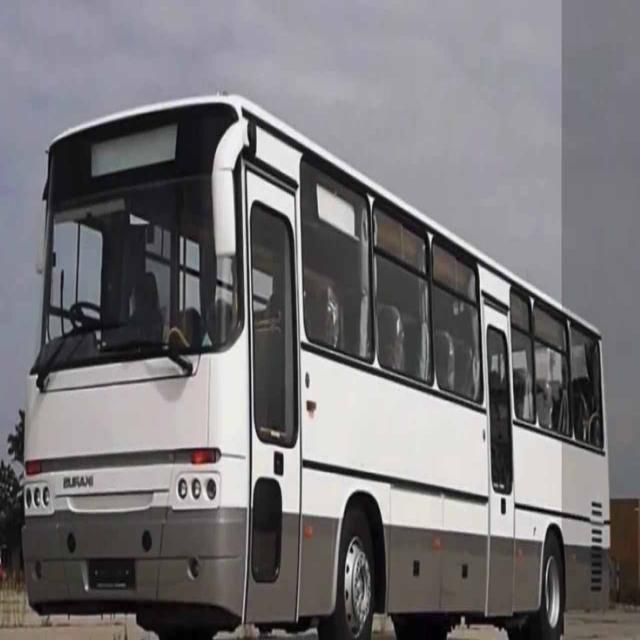bus: (20, 90, 615, 640)
